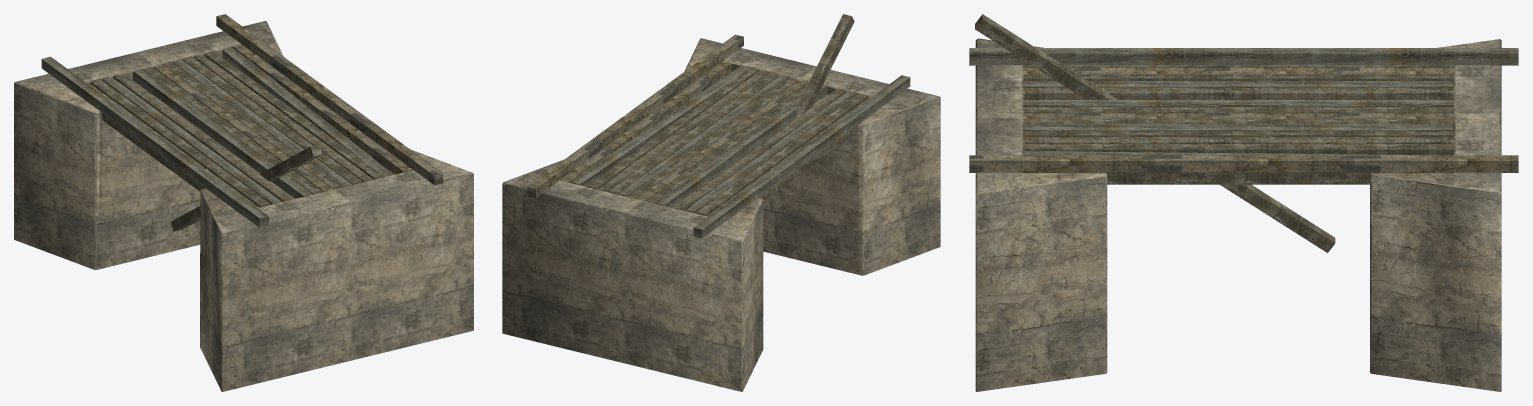
Rendered from woodenbridge.gltf.
The picture shows the model from 3 angles, left to right: view 1: azimuth 30°, elevation 25°; view 2: azimuth 150°, elevation 25°; view 3: azimuth 270°, elevation 25°; orthographic projection. The views are drawn at different scales.
Visible parts, largest first — view 1: Box05, MTIMBER04; view 2: Box05, MTIMBER04; view 3: Box05, MTIMBER04.
Part boxes in pixels (x1,y1,x2,y2): Box05: [14, 21, 473, 391]; MTIMBER04: [41, 14, 443, 231]; Box05: [502, 38, 940, 391]; MTIMBER04: [527, 14, 910, 238]; Box05: [975, 38, 1501, 391]; MTIMBER04: [969, 14, 1518, 252].
Bounding box in the file's own units: 8.38 × 7.02 × 12.54.
2 materials, 2 textured.
